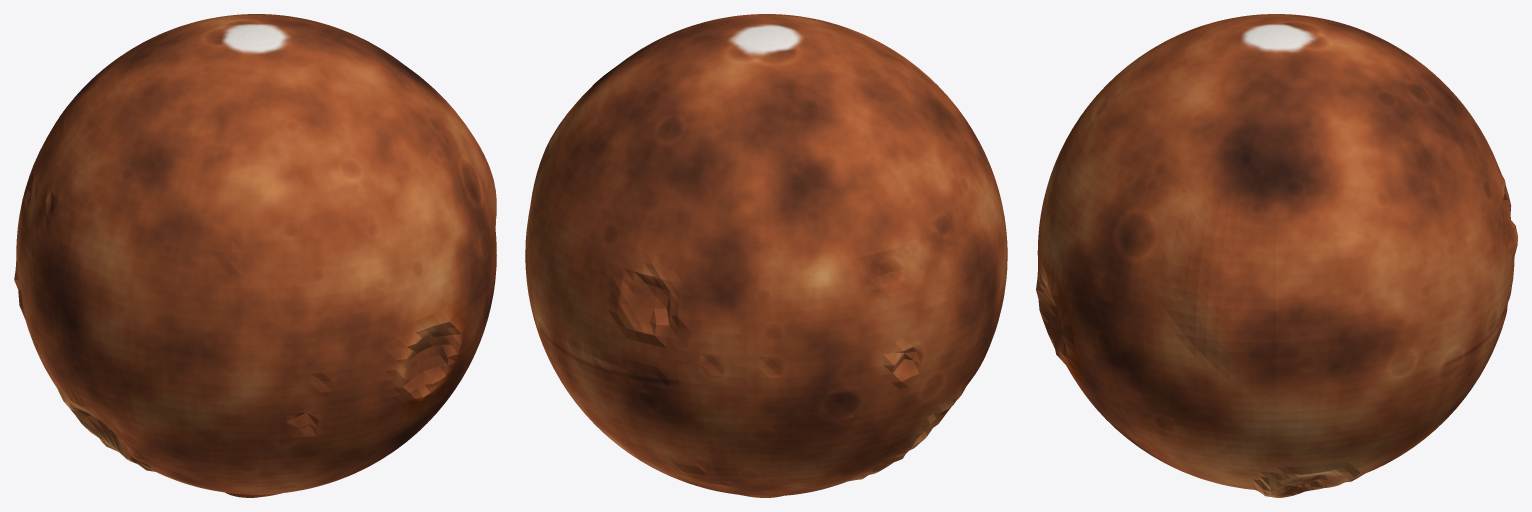
File: Mars(yeni).glb
The picture shows the model from 3 angles, left to right: view 1: azimuth 30°, elevation 25°; view 2: azimuth 150°, elevation 25°; view 3: azimuth 270°, elevation 25°; orthographic projection.
Visible parts, largest first — view 1: Mars; view 2: Mars; view 3: Mars.
Boxes of the visible parts, x1=… form: Mars: x1=14, y1=14, x2=496, y2=497; Mars: x1=525, y1=14, x2=1007, y2=497; Mars: x1=1036, y1=14, x2=1517, y2=497.
Bounding box in the file's own units: 2.02 × 2.06 × 2.02.
Materials: 1 (1 with a texture image).
